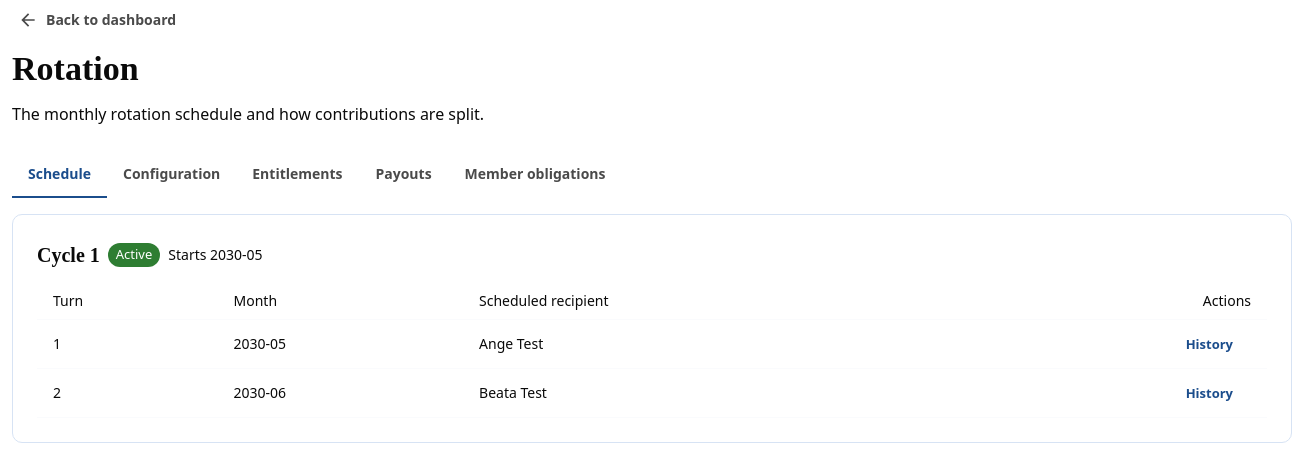
Scenario: RotationPage › lets a member read the schedule but offers no management actions
Expected: the text "Ange Test" is shown, [463,319,932,368]
Expected: the text "Beata Test" is shown, [463,368,932,417]
Step 1. Click the tab "Configuration" → (172, 174), box [107,150,236,198]
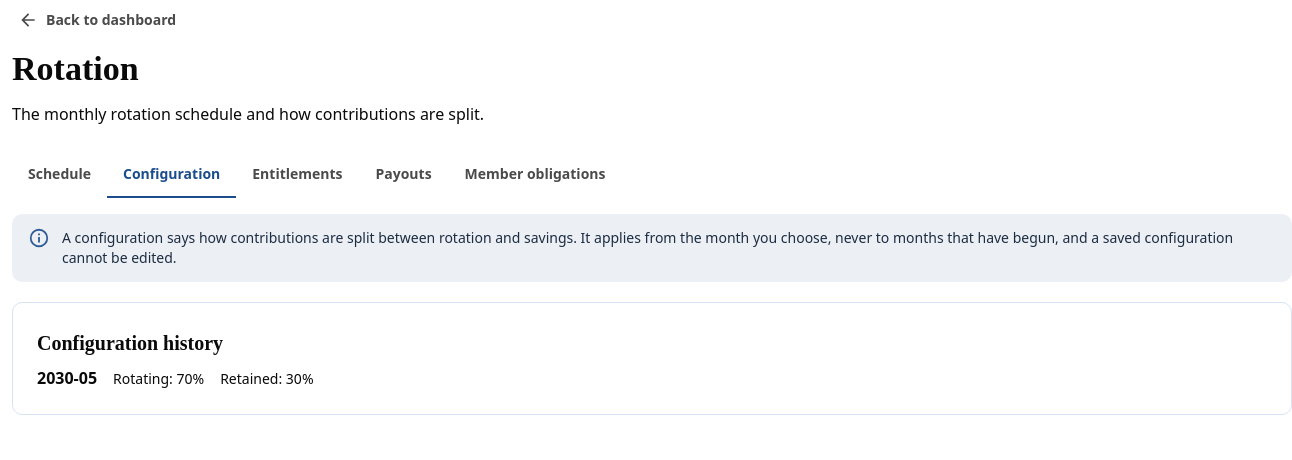
Now the heading "Configuration history" is shown, box [37,332,223,354]
Now the element with test id "rotation-config-row" shows "2030-05", box [37,367,97,389]
Now the element with test id "rotation-config-row" shows "70%", box [176,369,204,388]
